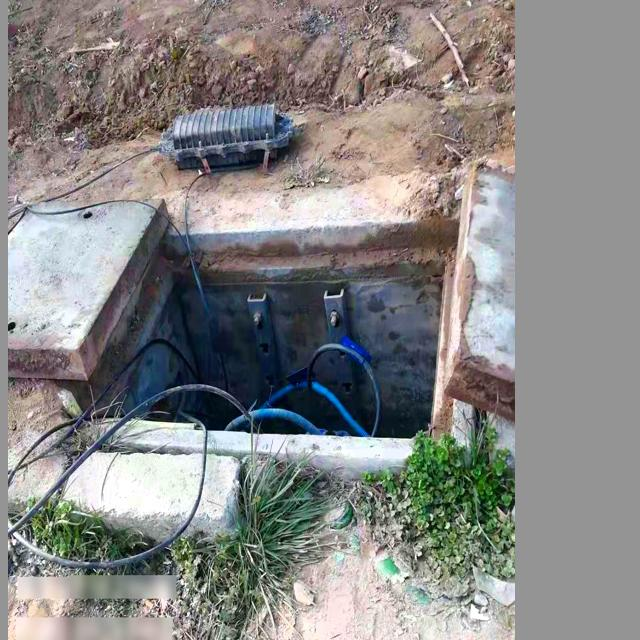uncovered: (13, 160, 515, 460)
